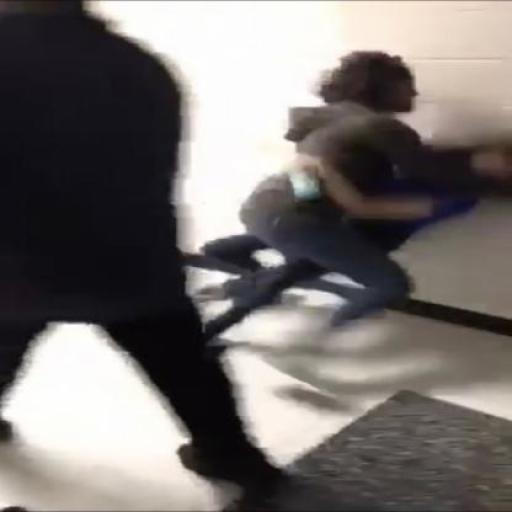Fighting: (195, 52, 512, 362)
